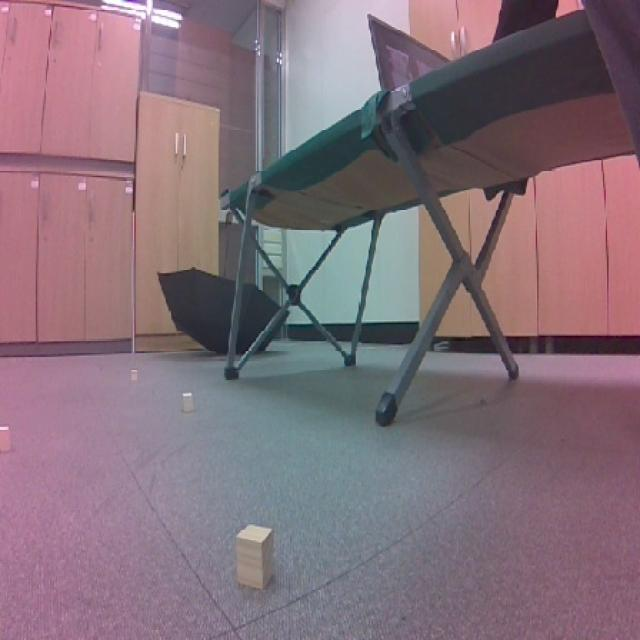obstacle: (219, 516, 286, 599)
